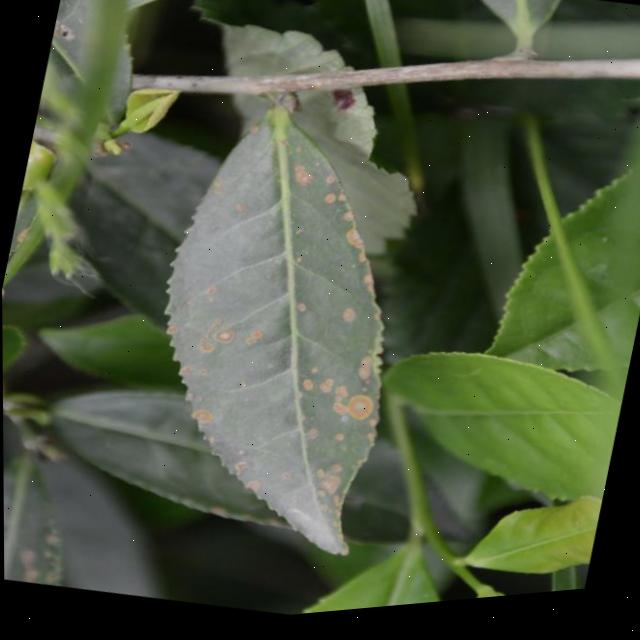Tea algae leaf spot: (147, 113, 421, 520)
